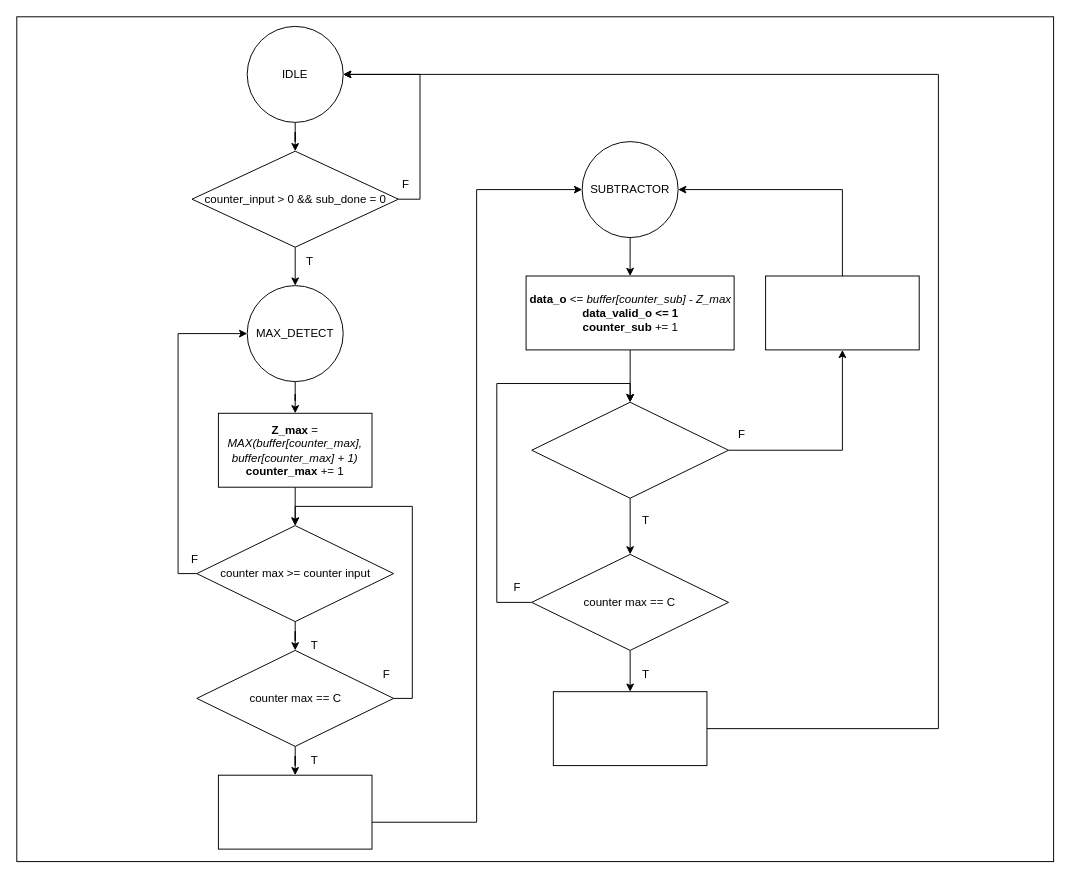
Image size: 1070x878. Some labels were removed from this diagram. The centre of each missing label's shape, as x and y in pixels:
"counter_sub >= counter_input" goes at point (630, 449).
"data_valid_o <= 0" goes at point (842, 312).
"max_done <= 1" goes at point (294, 811).
"sub_done <= 1" goes at point (629, 728).
